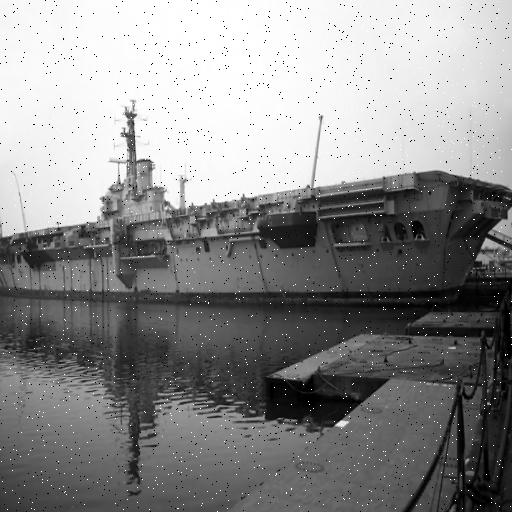Portanaves: (1, 85, 512, 305)
